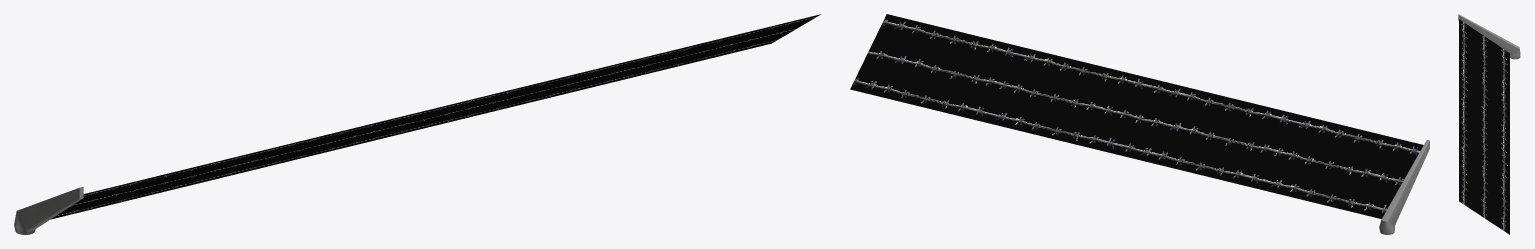
Rendered from chain_barbwire_straight.fbx.
The picture shows the model from 3 angles, left to right: view 1: azimuth 30°, elevation 25°; view 2: azimuth 150°, elevation 25°; view 3: azimuth 270°, elevation 25°; orthographic projection. The views are drawn at different scales.
Parts seen in each view (by area): view 1: chain_barbwire_straight; view 2: chain_barbwire_straight; view 3: chain_barbwire_straight.
Boxes of the visible parts, box(x1,y1,x2,y2) form: chain_barbwire_straight: box(14, 14, 820, 234); chain_barbwire_straight: box(850, 14, 1429, 234); chain_barbwire_straight: box(1458, 14, 1520, 234).
Size of the model in its own units: 3.05 by 0.3288 by 0.4317.
Materials: 2 (2 with a texture image).
